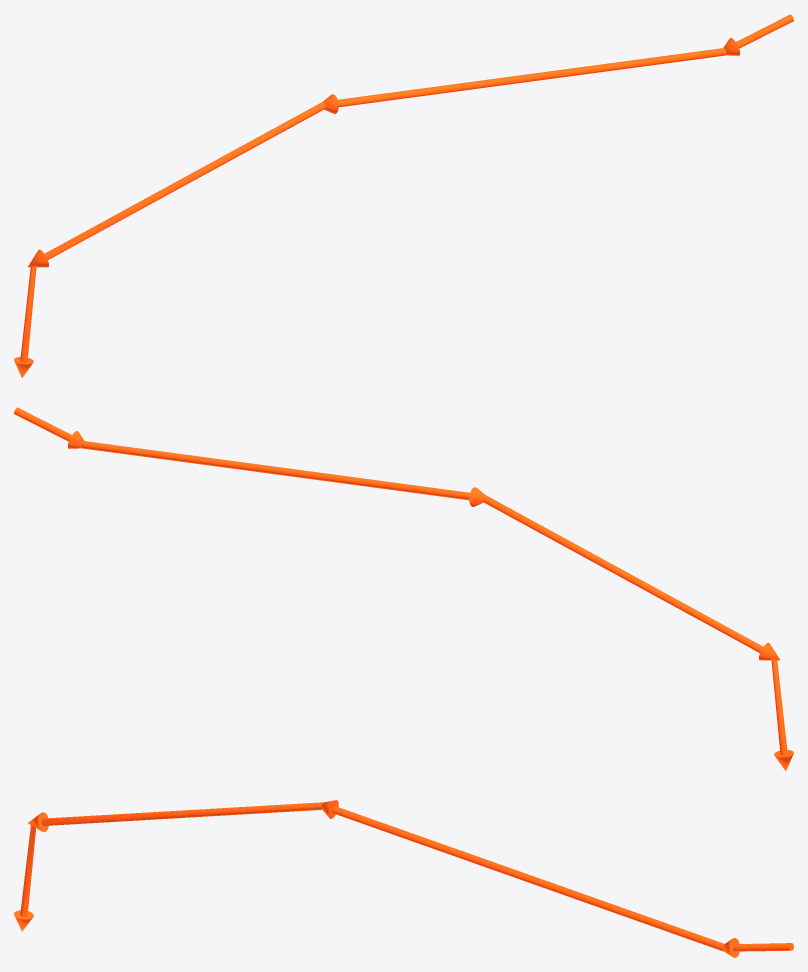
File: bucket_wheel_excavator_flow.glb
3 views of the same model, one above another, from view 1: azimuth 30°, elevation 25°; view 2: azimuth 150°, elevation 25°; view 3: azimuth 330°, elevation 25° (orthographic).
Parts seen in each view (by area): view 1: excavated; view 2: excavated; view 3: excavated.
Boxes of the visible parts, x1,y1,x2,y2 form: excavated: [14, 14, 793, 377]; excavated: [14, 407, 793, 770]; excavated: [14, 800, 793, 957].
Size of the model in its own units: 6.97 by 1.78 by 0.156.
